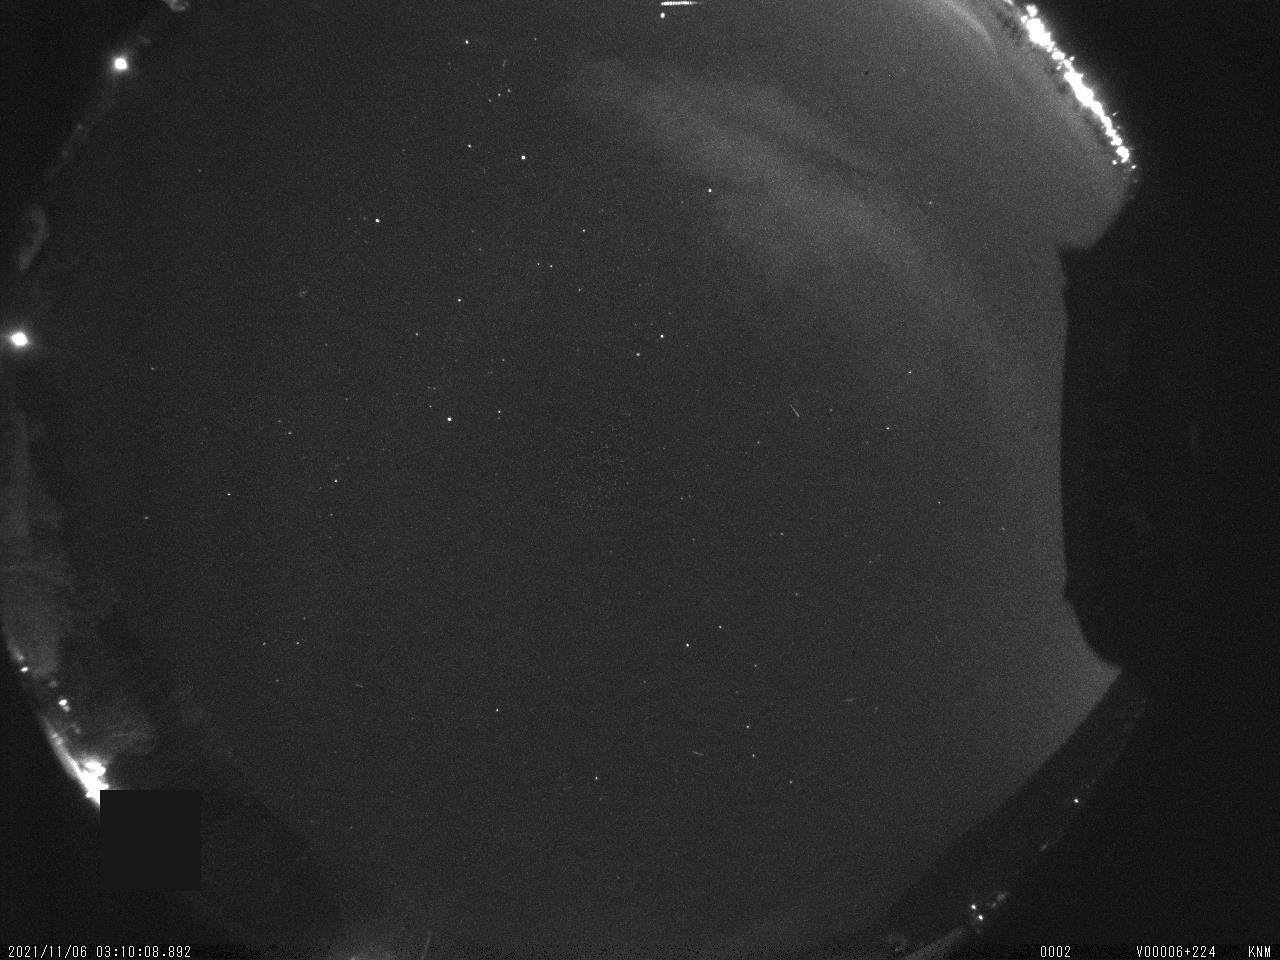meteor: (686, 740, 711, 762)
